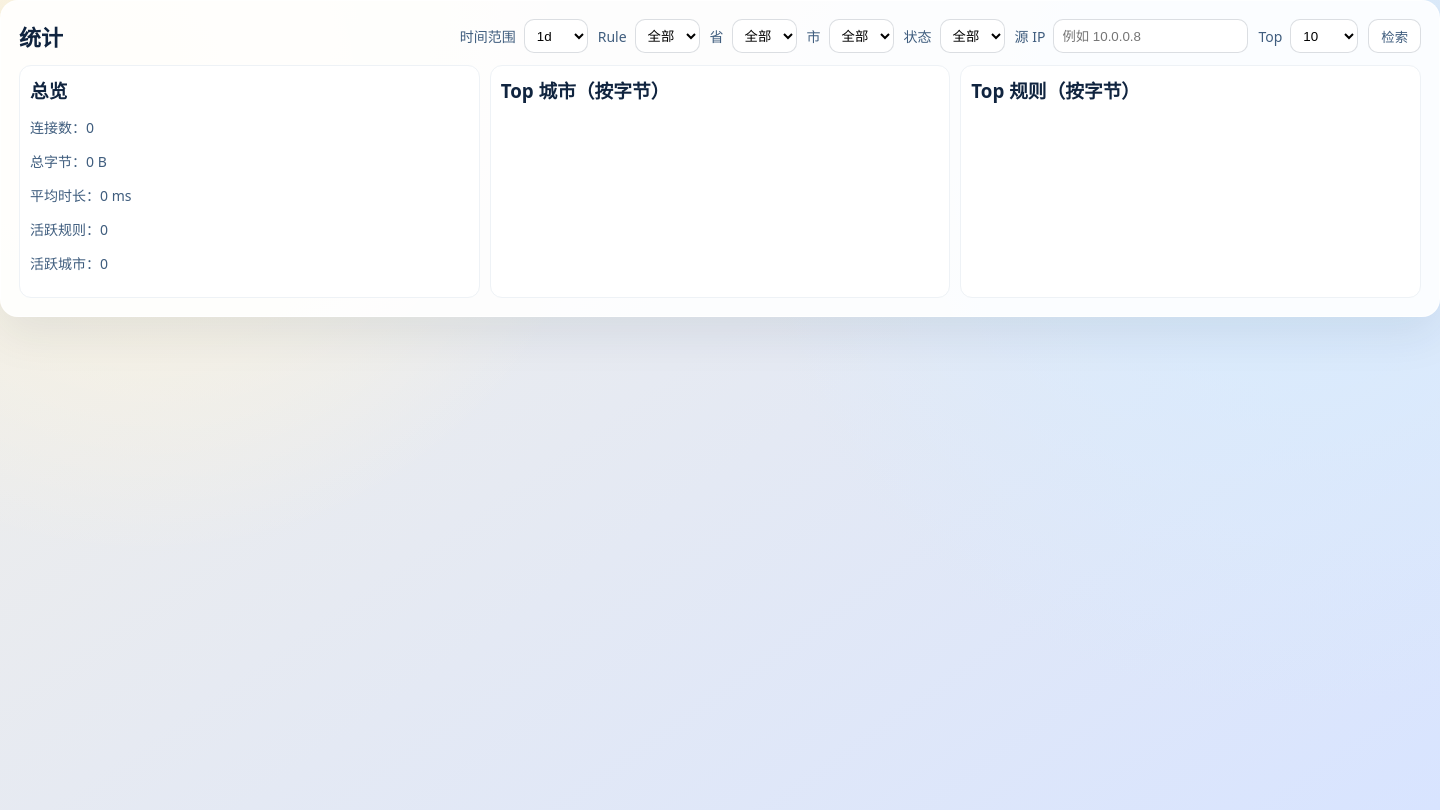
Test: AnalyticsPage › does not auto-refresh analytics and requests backend aggregation once when searching
Click the button "检索" at (1395, 36), box 1368,19 -> 1421,53
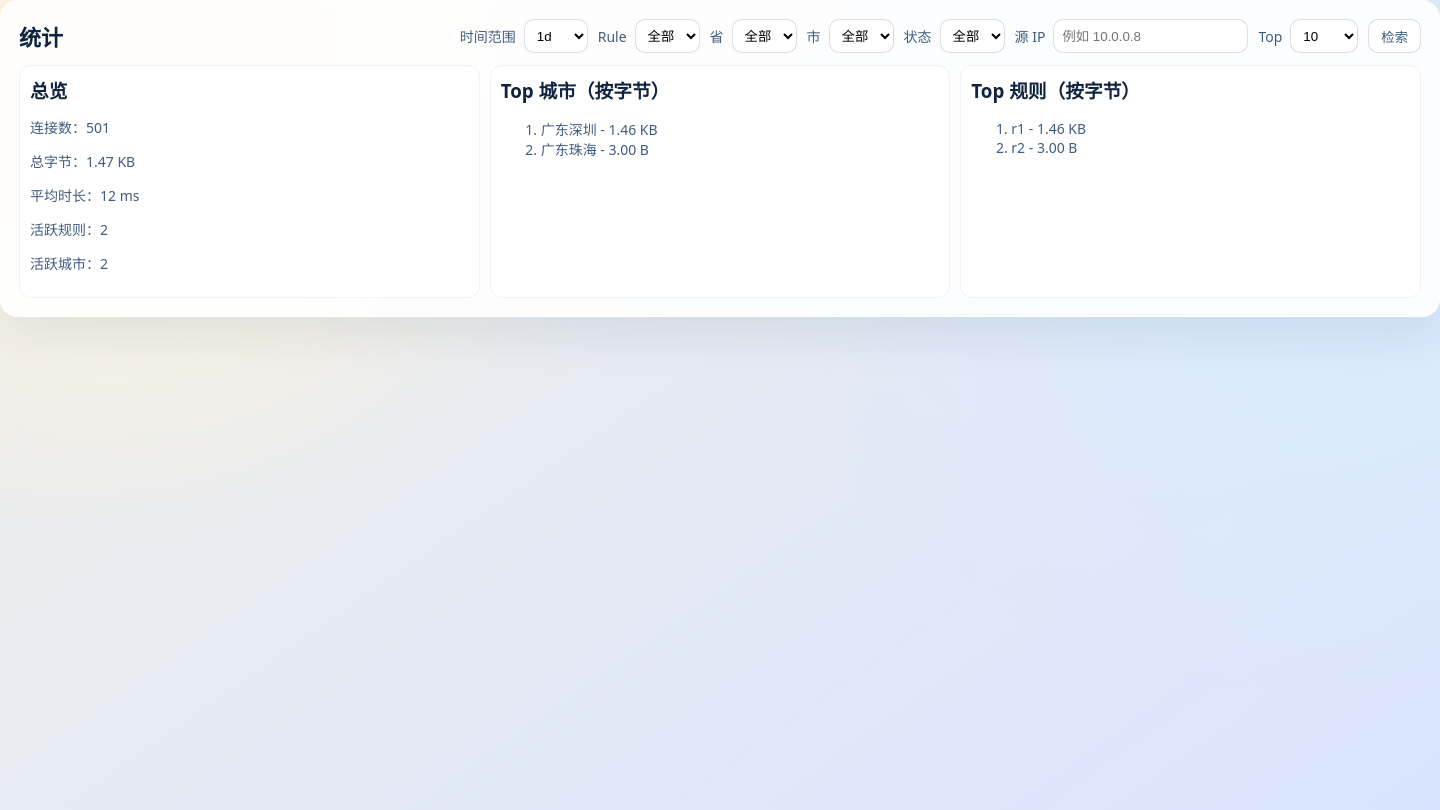
Check: the text "连接数：501" is shown, box 30,118 -> 110,137
Check: the text "活跃规则：2" is shown, box 30,220 -> 108,239
Check: the text "广东深圳 - 1.46 KB" is shown, box 541,120 -> 658,139
